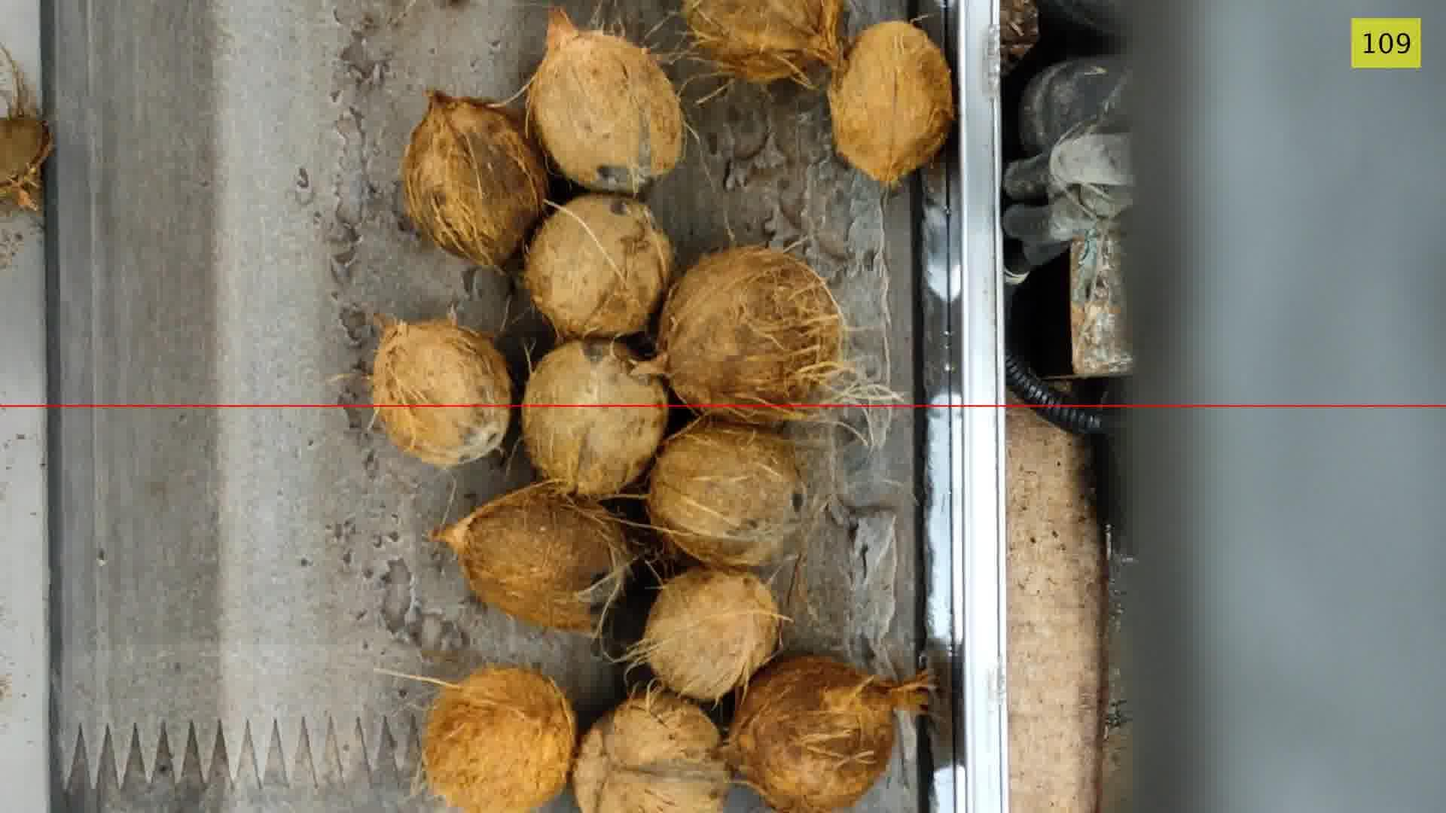Coconut: (651, 246, 844, 423), (725, 656, 929, 812), (432, 483, 630, 635), (527, 8, 684, 193), (401, 90, 548, 266), (647, 418, 807, 566), (522, 340, 667, 497), (369, 312, 513, 468), (422, 667, 576, 812), (522, 193, 673, 338), (828, 21, 954, 187), (630, 568, 783, 701), (572, 690, 730, 812), (683, 0, 842, 86), (0, 47, 53, 210)
